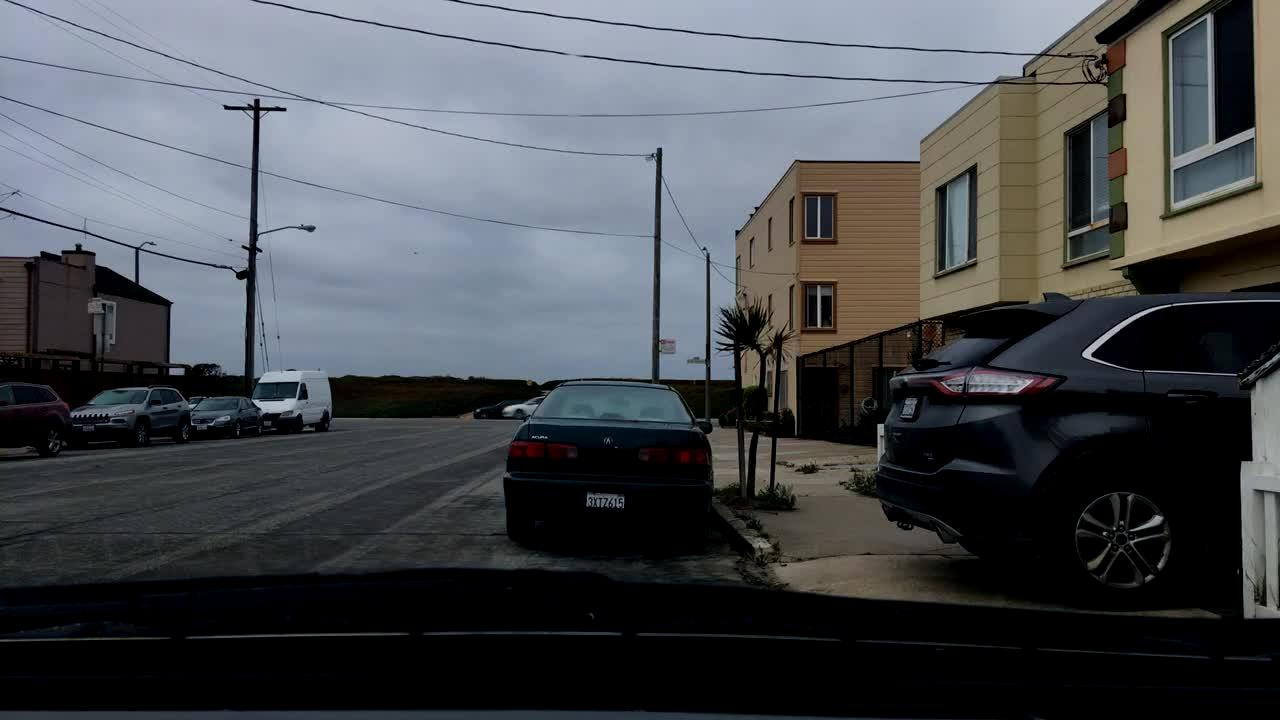acura: (596, 432, 619, 450)
